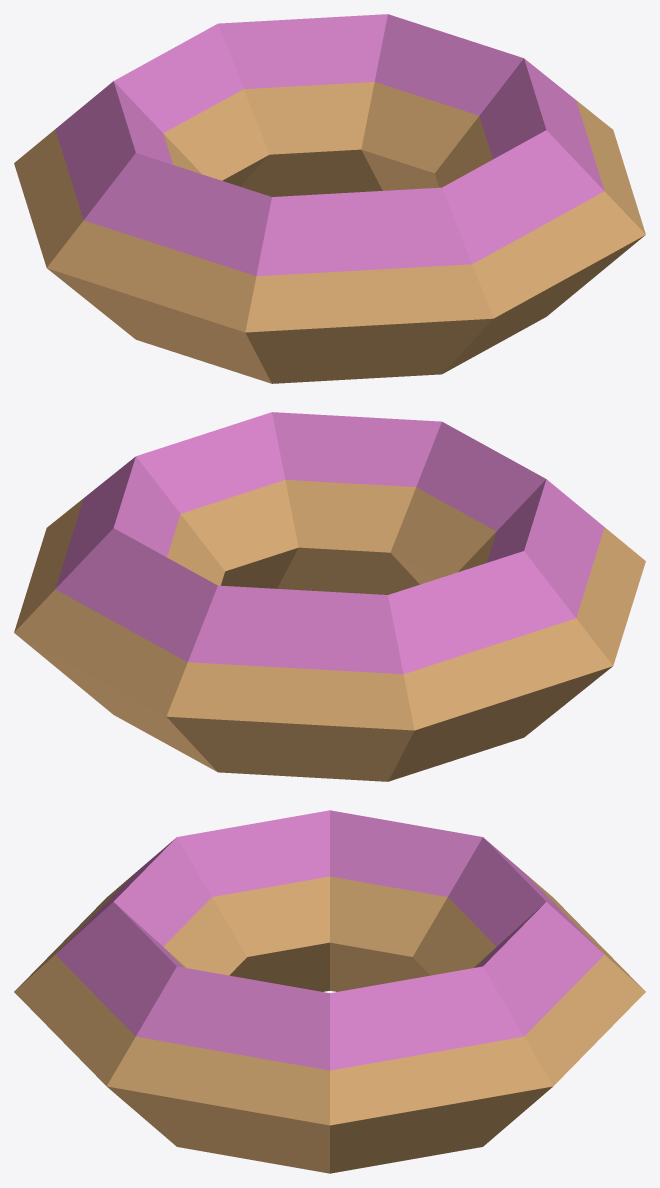
File: Donut.fbx
3 views of the same model, one above another, from view 1: azimuth 30°, elevation 25°; view 2: azimuth 150°, elevation 25°; view 3: azimuth 270°, elevation 25° (orthographic). The views are drawn at different scales.
Visible parts, largest first — view 1: Donut; view 2: Donut; view 3: Donut.
Boxes of the visible parts, left/top/right/bottom form: Donut: left=14, top=14, right=645, bottom=383; Donut: left=14, top=412, right=645, bottom=781; Donut: left=14, top=810, right=645, bottom=1173.
Size of the model in its own units: 60.15 by 18.95 by 60.15.
